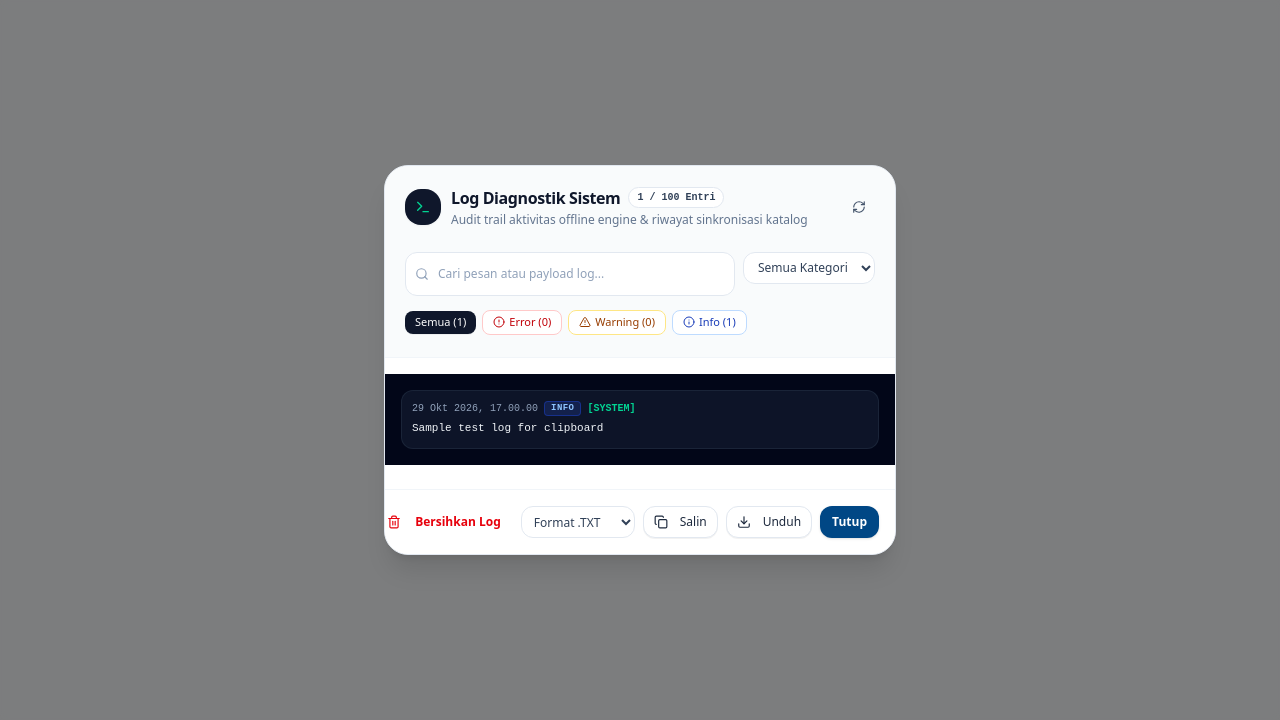
Scenario: DiagnosticLogDialog Component Suite (Task P5.13) › copies logs to clipboard when 'Salin' button is clicked
The image size is (1280, 720).
Expected: the text "Sample test log for clipboard" is shown, [412,422,603,434]
Click the button with test id "copy-logs-button" at (680, 522), box [643,506,718,538]
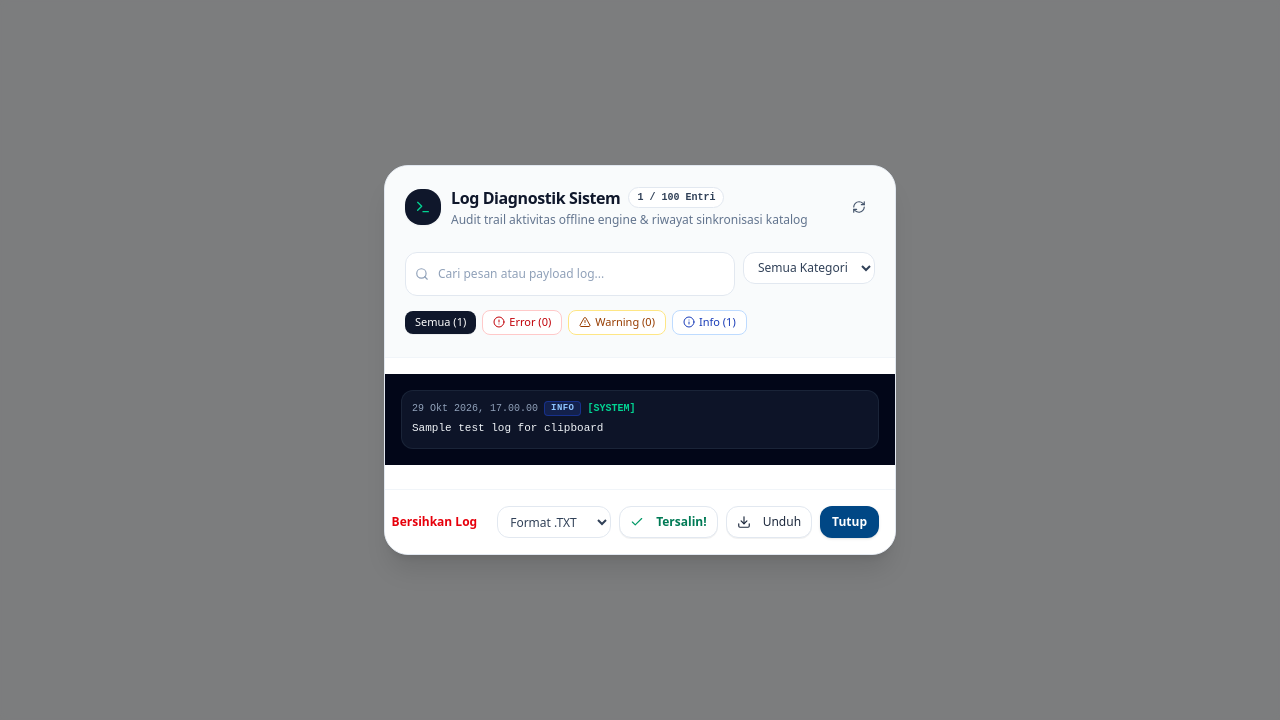
Expected: the text "Tersalin!" is shown, [656,514,707,530]
